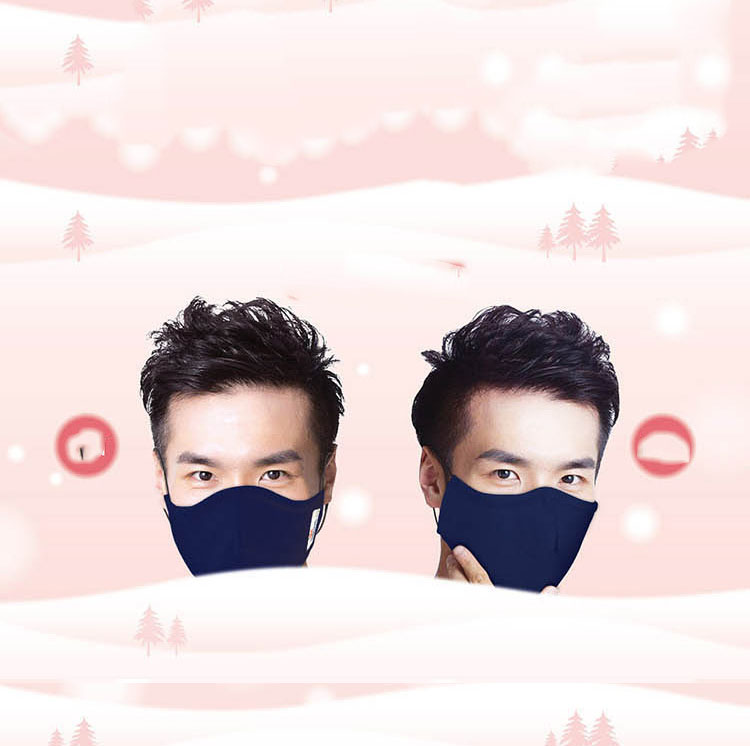face_mask: (442, 384, 600, 594), (161, 383, 318, 588)
